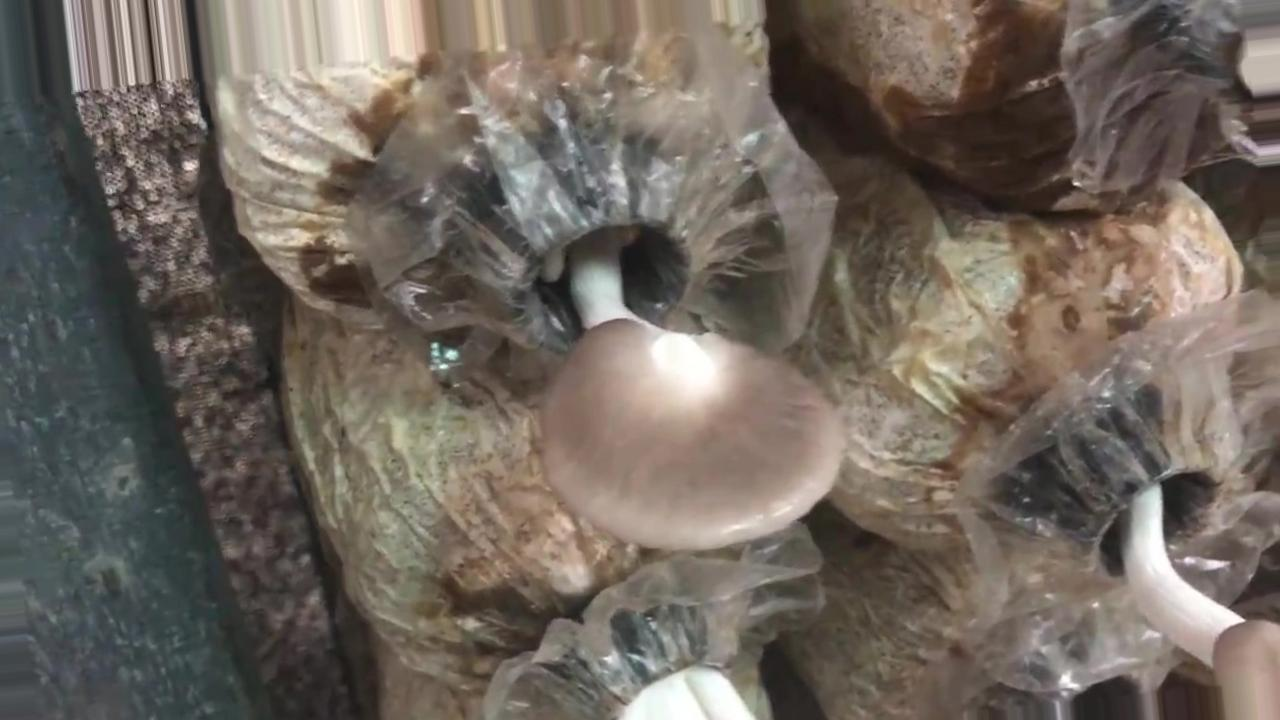nam: (467, 143, 848, 553)
